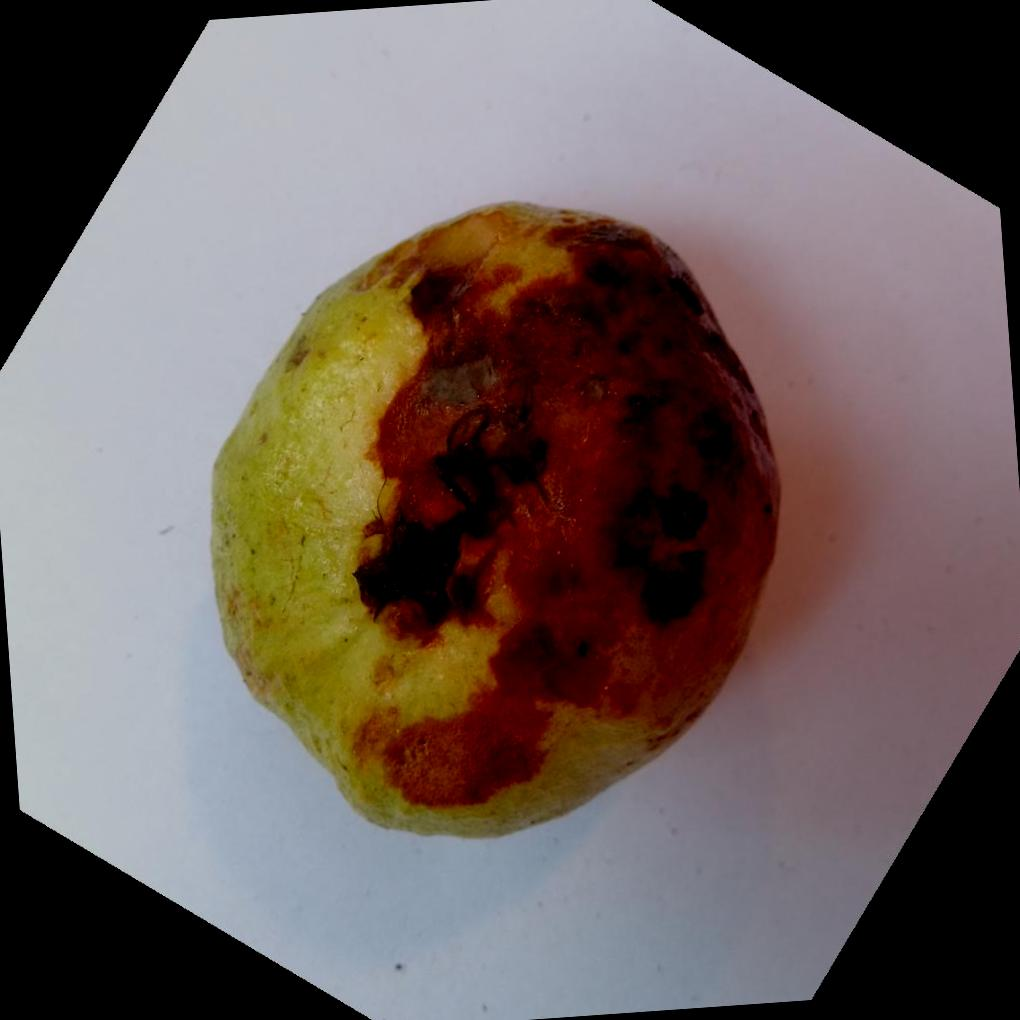FreshOrange: (207, 204, 781, 844)
